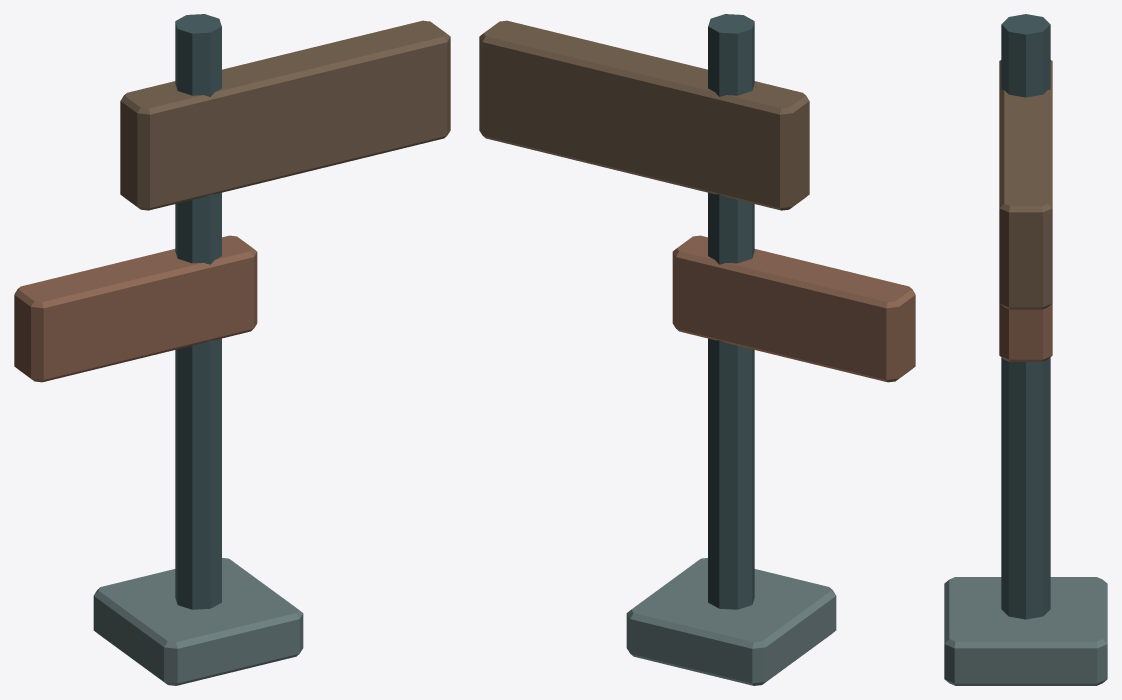
The model's file is signpost.glb.
3 renders of one model, left to right at view 1: azimuth 30°, elevation 25°; view 2: azimuth 150°, elevation 25°; view 3: azimuth 270°, elevation 25°, orthographic.
Parts seen in each view (by area): view 1: signpost__body; view 2: signpost__body; view 3: signpost__body.
Part boxes in pixels (x1,y1,x2,y2): signpost__body: (14,14,450,685); signpost__body: (479,14,915,685); signpost__body: (944,14,1107,685).
Size of the model in its own units: 1.2 by 1.7 by 0.4.
